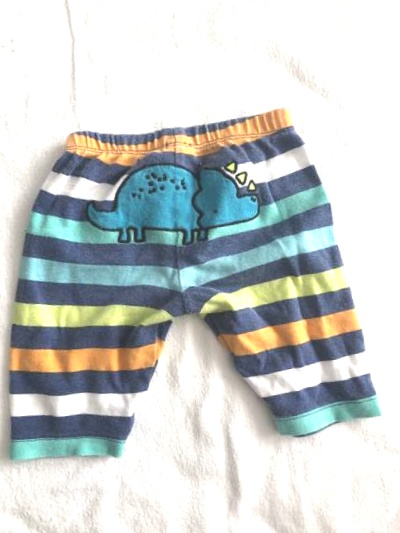Pants: (0, 99, 385, 463)
